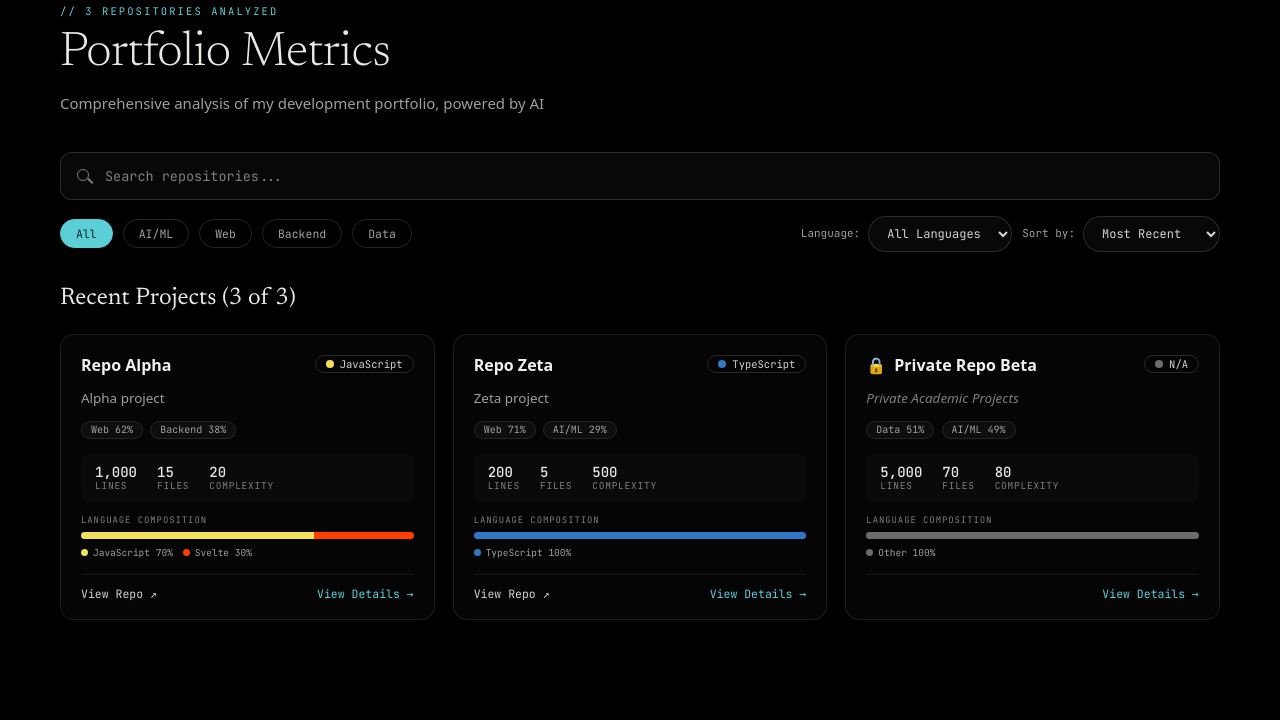
it: Option B portfolio overview integration › opens and closes detail panel from a repository card
Check: the heading "Repo Alpha" is shown, box x1=81 y1=355 x2=171 y2=375
Click the button with aria-label "Open details for Repo Alpha".
click(247, 477)  # box x1=60 y1=334 x2=435 y2=620
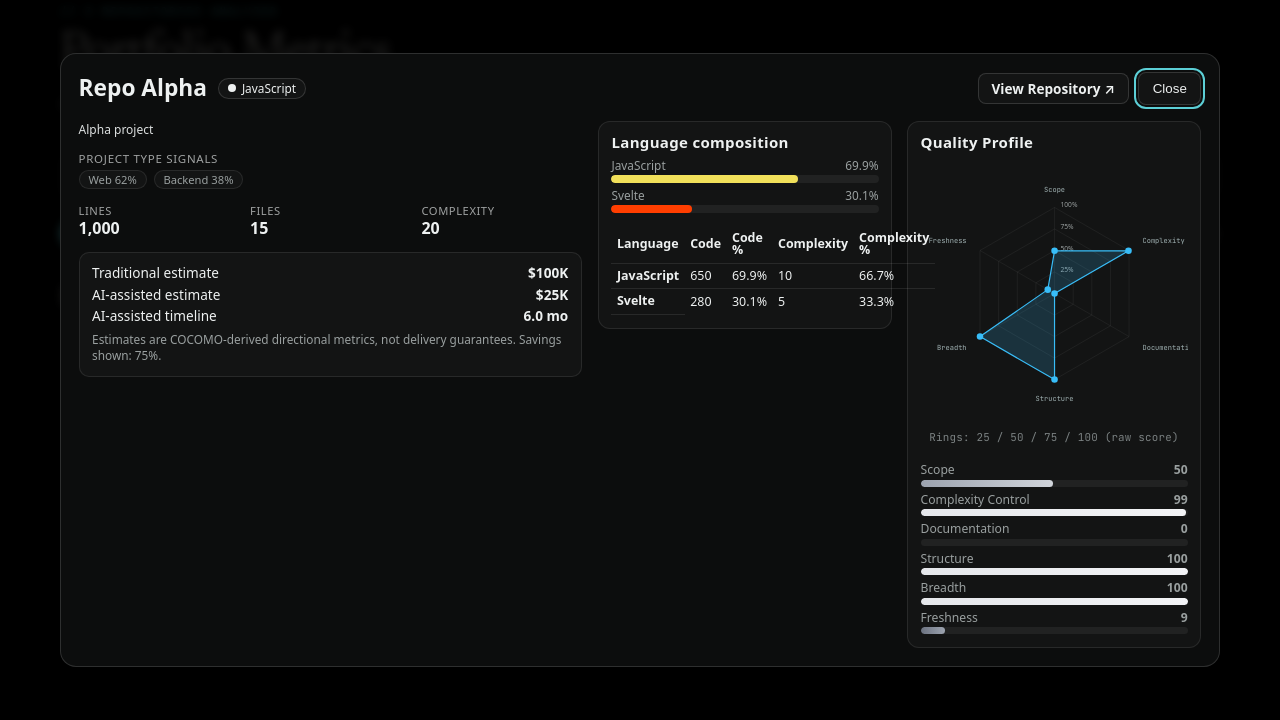
Check: the dialog is shown
Check: the text "Project Type Signals" is shown, box x1=79 y1=151 x2=218 y2=166
Check: the heading "Quality Profile" is shown, box x1=920 y1=132 x2=1033 y2=152
Click the button with aria-label "Close repository details".
click(1170, 88)  # box x1=1138 y1=72 x2=1201 y2=105
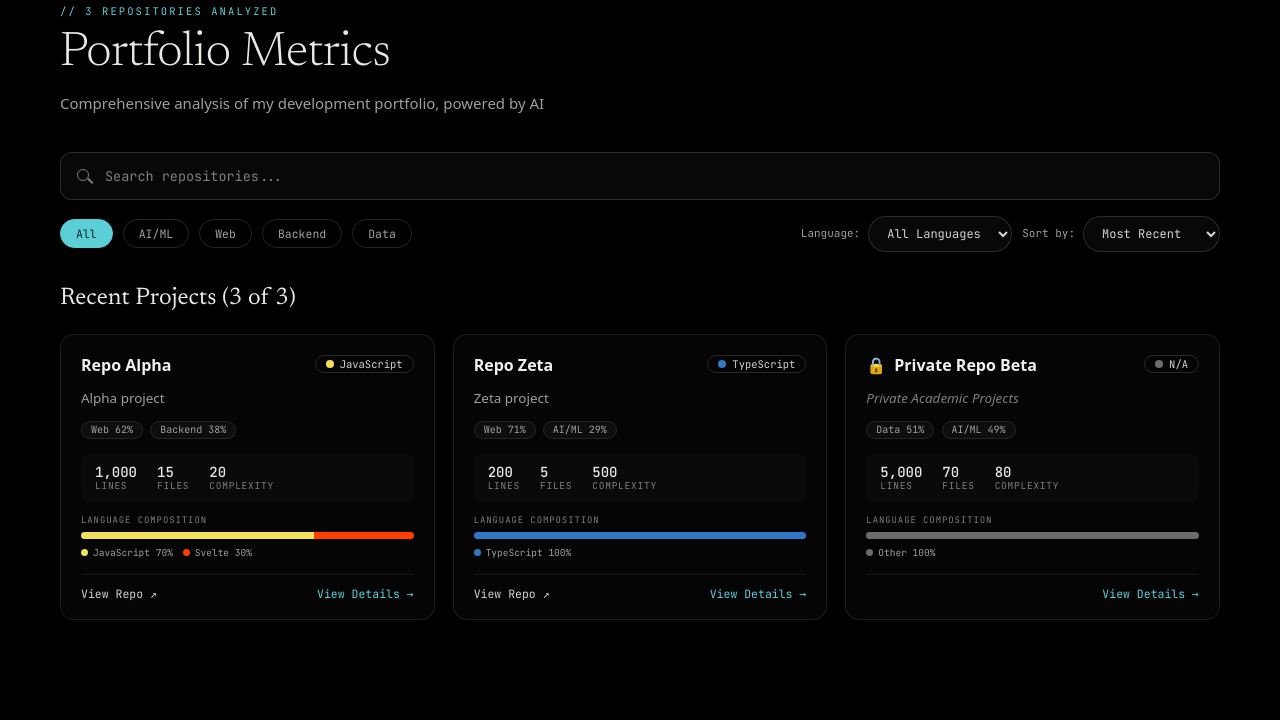
Check: the dialog is gone
